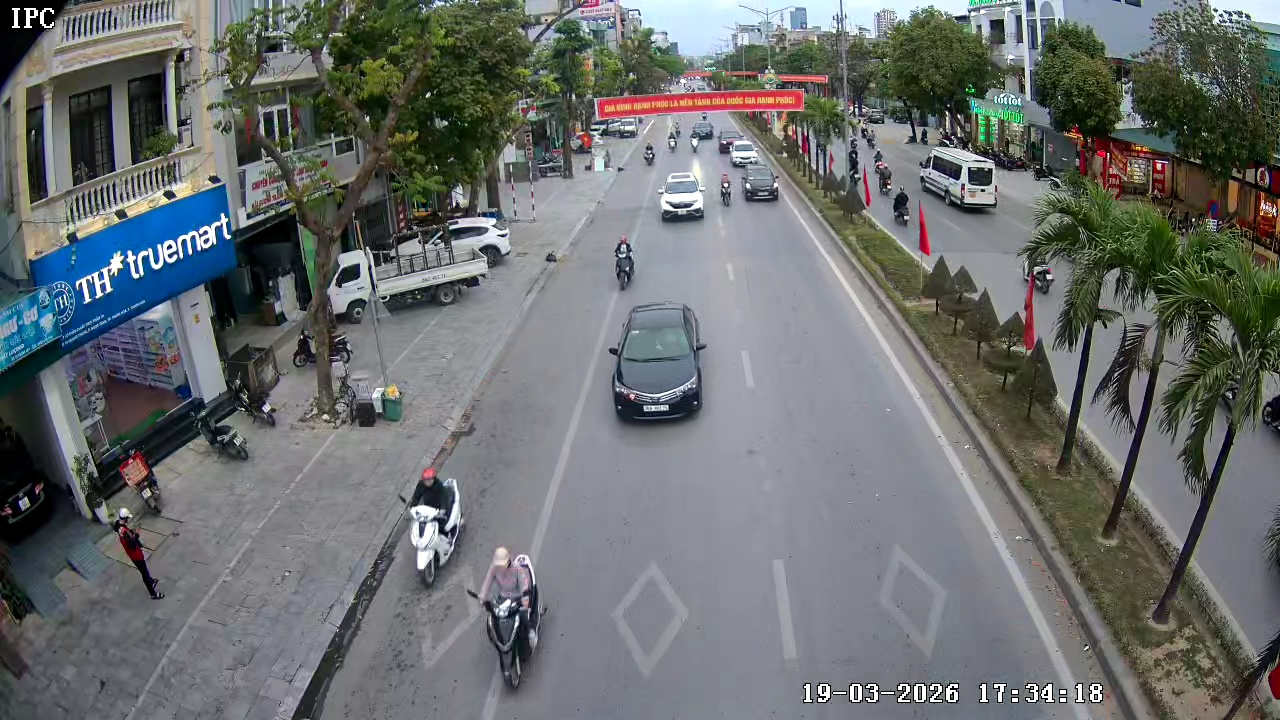car: (606, 299, 708, 422), (918, 145, 1000, 213), (657, 169, 707, 223), (741, 162, 781, 203), (730, 138, 757, 168), (723, 132, 735, 157)
motorbike: (465, 546, 549, 693), (401, 468, 465, 589), (613, 235, 637, 290), (718, 168, 734, 206), (690, 122, 711, 148), (641, 138, 658, 166)
pedestrian: (107, 507, 167, 602), (876, 152, 893, 198)
